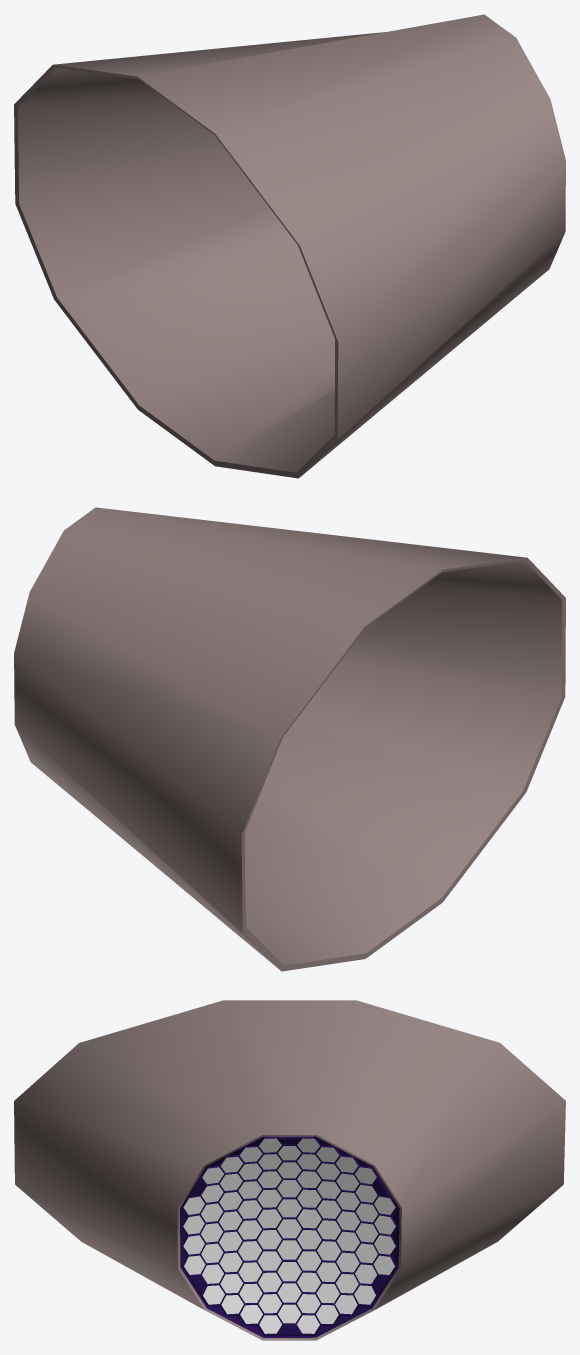
Rendered from Arcade_Window.glb.
The picture shows the model from 3 angles, top to bottom: view 1: azimuth 30°, elevation 25°; view 2: azimuth 150°, elevation 25°; view 3: azimuth 270°, elevation 25°; orthographic projection. The views are drawn at different scales.
Parts seen in each view (by area): view 1: Arcade-Window; view 2: Arcade-Window; view 3: Arcade-Window.
Boxes of the visible parts, bbox=[...] form: Arcade-Window: bbox=[14, 14, 565, 478]; Arcade-Window: bbox=[14, 507, 565, 971]; Arcade-Window: bbox=[14, 1000, 565, 1340].
Size of the model in its own units: 5.24 by 5.14 by 9.09.
